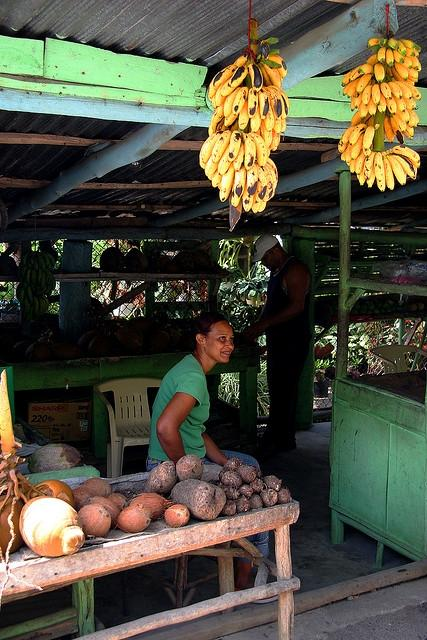banana: (200, 131, 224, 169), (246, 132, 268, 168), (258, 60, 282, 90), (211, 130, 232, 164), (264, 86, 283, 120), (228, 189, 243, 232), (386, 154, 406, 186), (267, 85, 290, 111), (390, 155, 416, 178), (390, 145, 421, 163), (241, 133, 256, 170), (213, 64, 238, 86), (271, 88, 288, 120), (224, 88, 242, 118), (255, 160, 267, 202), (246, 64, 264, 92), (268, 54, 288, 79), (232, 86, 249, 115), (227, 64, 248, 86), (228, 130, 242, 163), (220, 77, 244, 96), (262, 164, 274, 202), (234, 161, 246, 198), (232, 141, 246, 172), (222, 161, 236, 192), (218, 144, 232, 175), (246, 162, 258, 198), (390, 114, 404, 144), (258, 86, 270, 120), (350, 133, 365, 160), (350, 124, 368, 146), (242, 179, 254, 212), (363, 152, 377, 180), (205, 154, 221, 178), (257, 63, 273, 87), (356, 73, 373, 95), (260, 119, 273, 147), (211, 107, 225, 133), (398, 81, 419, 98), (238, 98, 249, 130), (394, 82, 413, 100), (250, 101, 261, 132), (341, 124, 358, 144), (209, 73, 222, 99), (384, 157, 394, 190), (362, 125, 374, 152), (263, 105, 275, 132), (248, 88, 258, 119), (348, 76, 362, 98), (354, 150, 366, 175), (374, 152, 384, 182), (394, 60, 408, 81), (392, 92, 406, 113), (215, 82, 226, 108), (384, 114, 394, 142), (366, 160, 376, 188), (392, 114, 406, 134), (231, 180, 241, 208), (388, 82, 403, 100), (349, 64, 364, 82), (267, 158, 278, 182), (343, 78, 357, 96), (371, 80, 381, 105), (220, 183, 233, 202), (396, 108, 410, 125), (211, 167, 222, 188), (270, 128, 280, 151), (377, 89, 386, 114), (362, 85, 373, 105), (386, 95, 397, 115), (251, 193, 262, 213), (376, 170, 386, 192), (380, 82, 392, 100), (402, 156, 420, 168), (224, 113, 239, 127), (406, 108, 416, 128), (399, 39, 417, 50), (406, 56, 420, 70), (350, 110, 362, 126), (392, 48, 404, 64), (374, 64, 384, 83), (342, 70, 352, 88), (378, 46, 388, 64), (233, 54, 248, 66), (385, 47, 394, 67), (368, 94, 376, 116), (357, 64, 374, 74), (402, 96, 414, 110), (365, 54, 379, 66), (358, 166, 366, 187), (404, 124, 414, 140), (396, 40, 406, 56), (388, 38, 400, 50), (411, 110, 419, 128), (354, 92, 363, 108), (360, 101, 368, 119), (345, 143, 352, 163), (366, 38, 380, 48), (408, 68, 419, 80), (402, 56, 412, 69), (274, 118, 282, 134), (363, 143, 372, 157), (358, 100, 364, 119), (350, 95, 356, 112), (378, 38, 388, 48), (212, 95, 218, 111), (350, 158, 356, 174), (280, 118, 286, 134), (251, 127, 261, 136), (341, 147, 347, 162), (366, 115, 374, 126), (258, 201, 266, 212), (208, 122, 214, 136), (410, 48, 418, 57), (414, 43, 422, 52)
